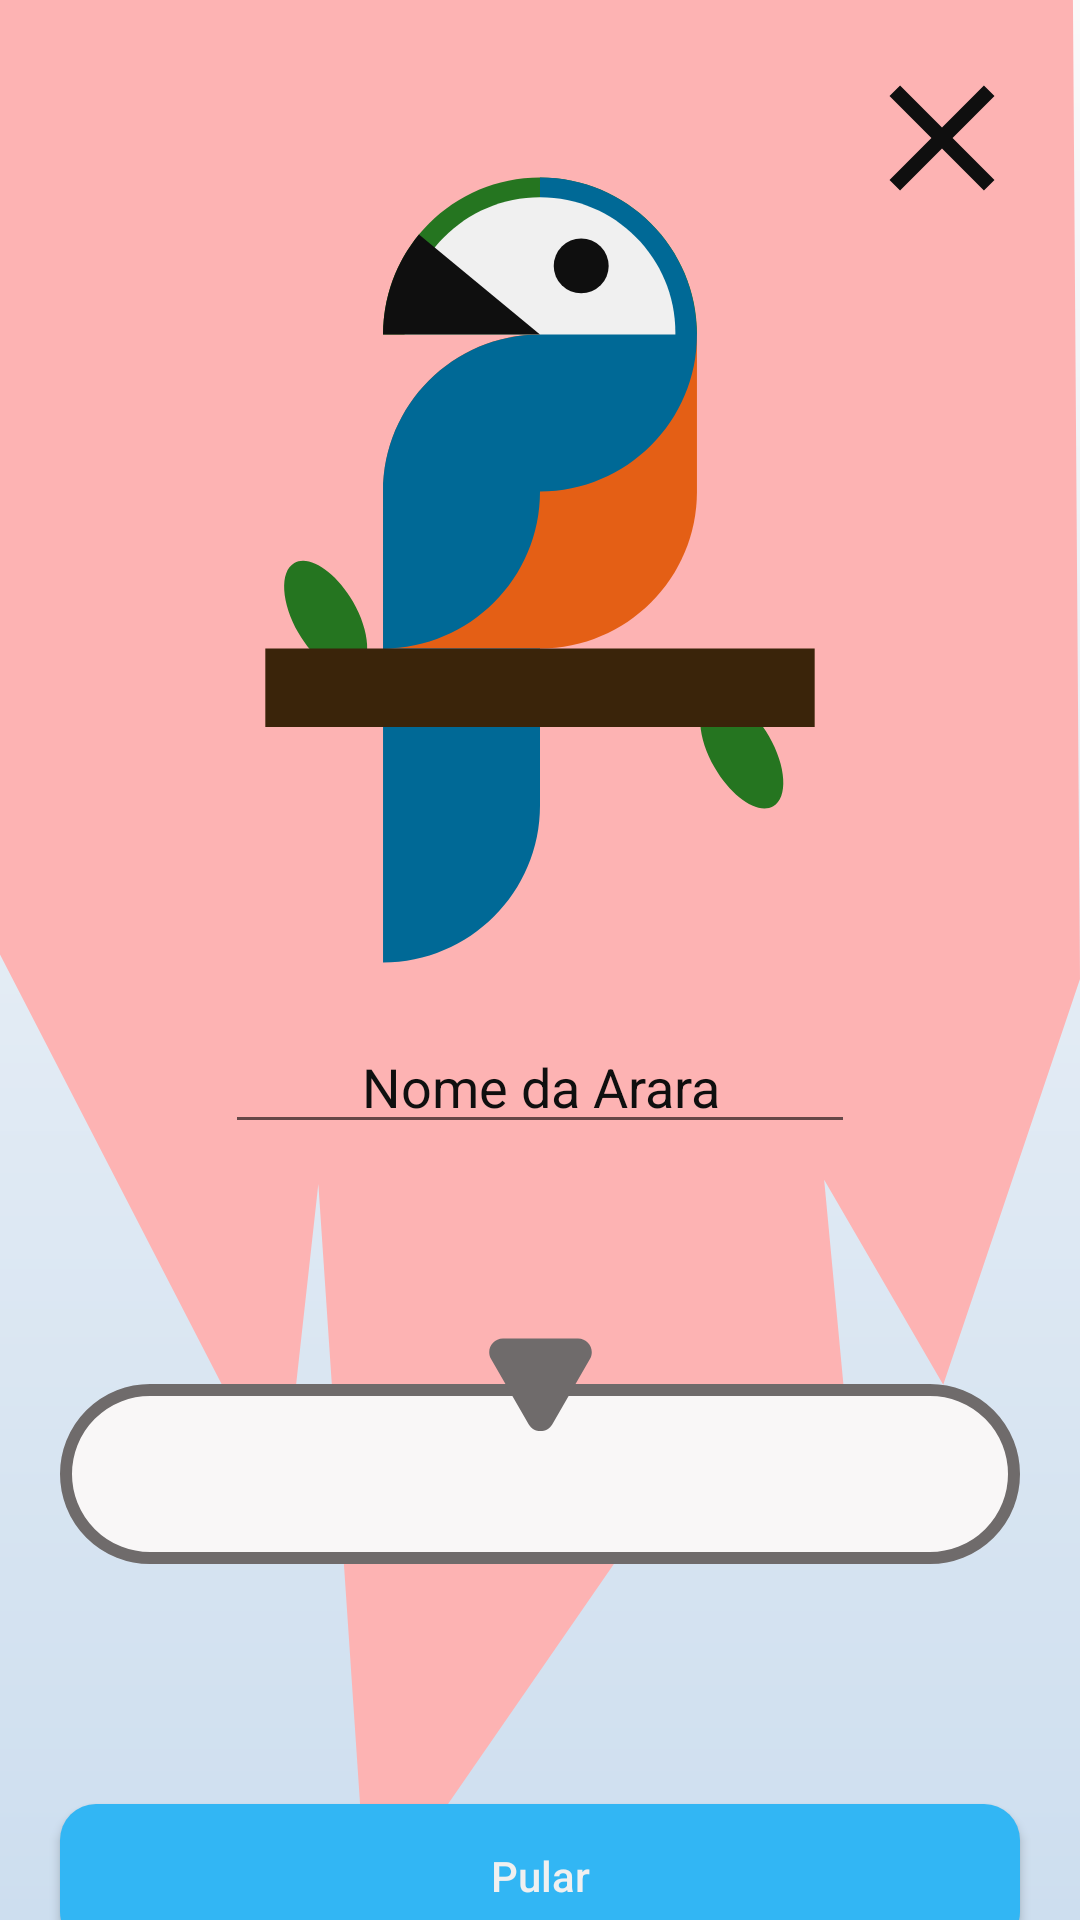

Icons on this 1080 x 1920 Android screen, each with the point to tap as (x,y):
as picker pointer: (540,1383)
cancel: (942,138)
